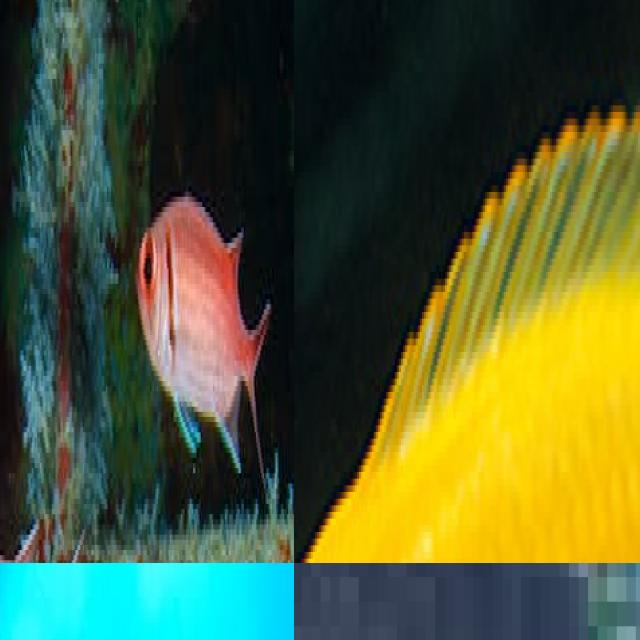fish: (294, 0, 640, 563), (0, 0, 294, 563), (294, 563, 640, 640)
